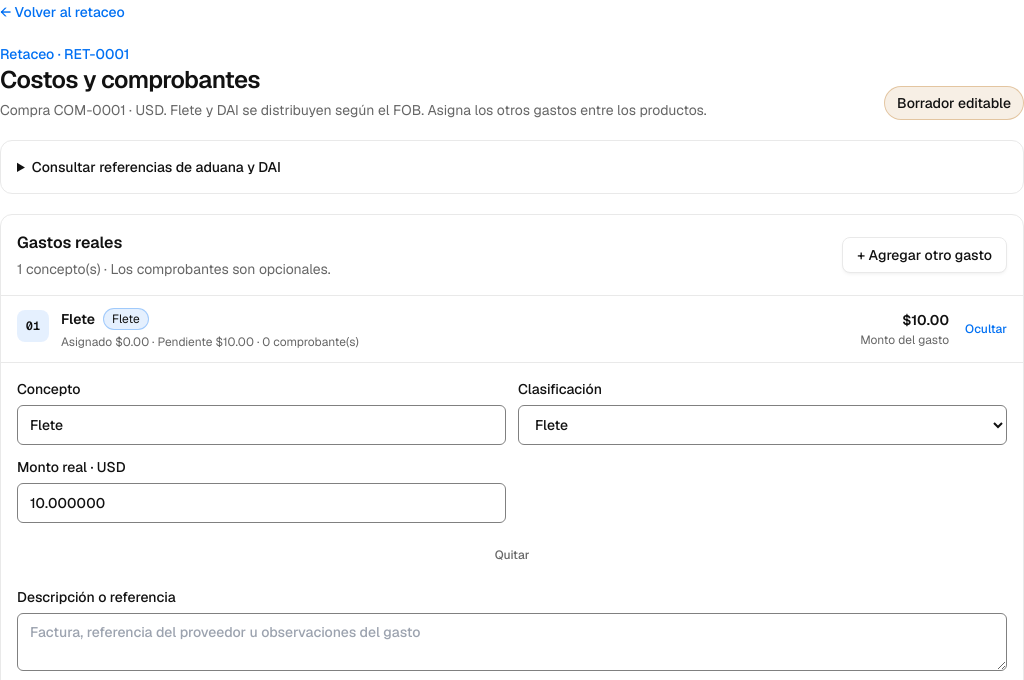
Test: RetaceoDraftEditor › updates the itemized draft cost and opens the calculation step
Expected: the heading "Costos y comprobantes" is shown, [0,64,260,95]
Expected: the text "Retaceo · RET-0001" is shown, [0,45,130,63]
Replace the text in the field labelled "Concepto" with "Flete internacional": (262, 425) [17,405,506,445]
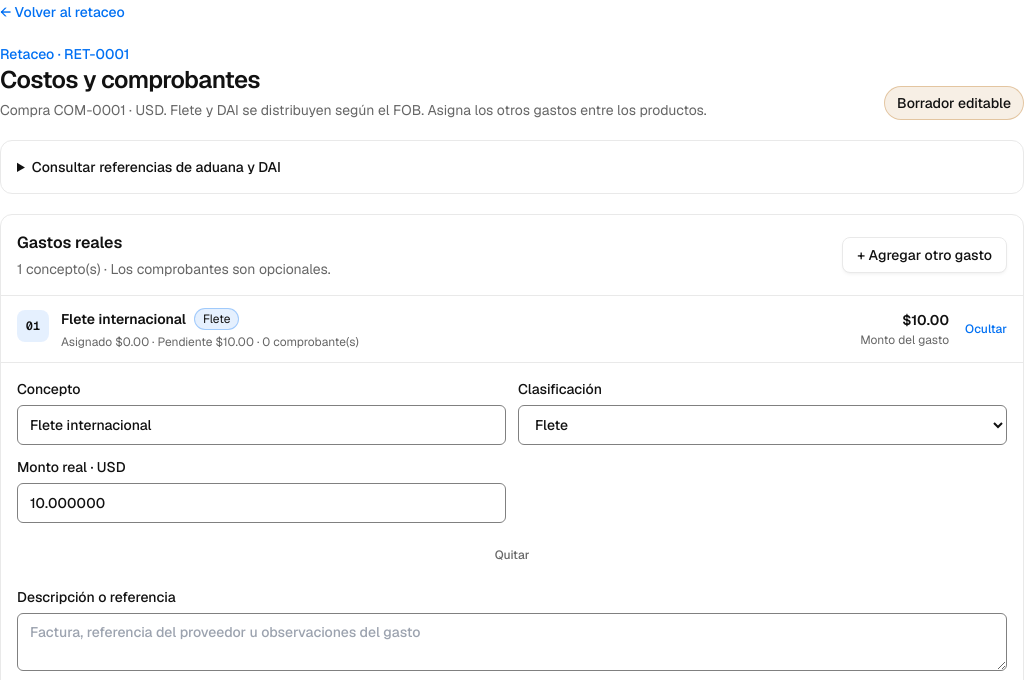
Replace the text in the number field labelled "Monto real · USD" with "12.000000": (262, 503) [17,483,506,523]
(page scrolled)
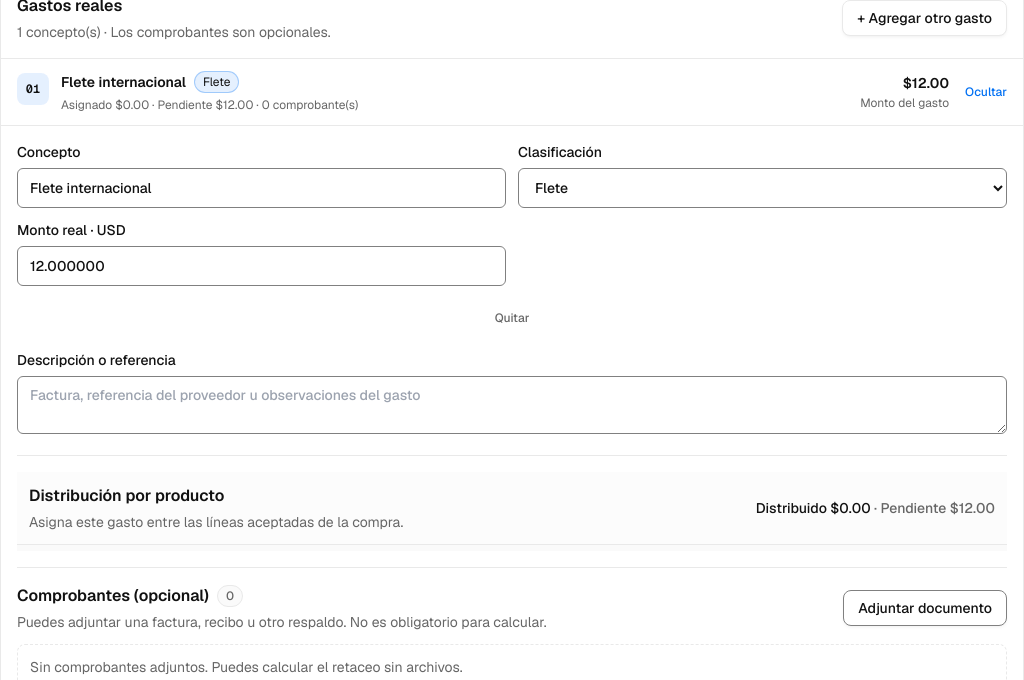
Submit the form named "Guardar borrador"
(page scrolled)
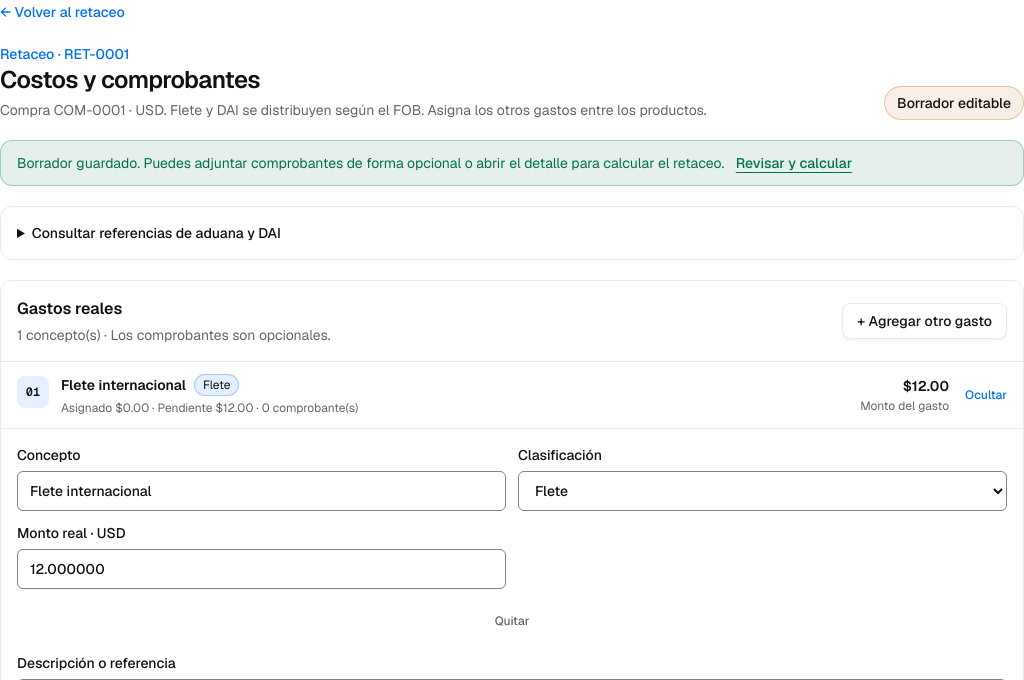
Expected: the text "Borrador guardado. Puedes adjuntar comprobantes de forma opcional o abrir el detalle para calcular el retaceo." is shown, [17,154,728,172]
